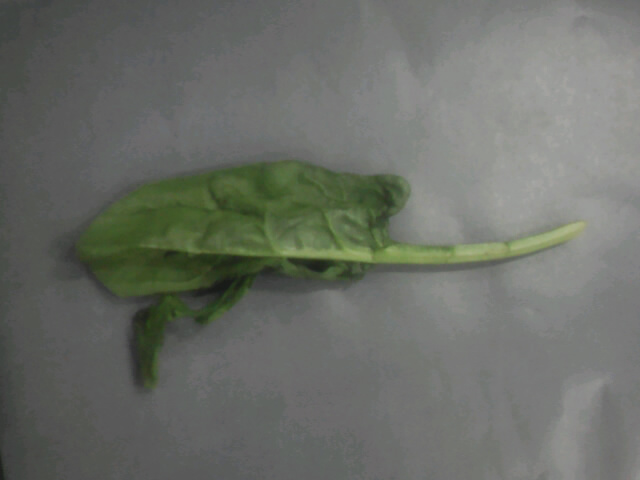yellow: (50, 111, 497, 388)
